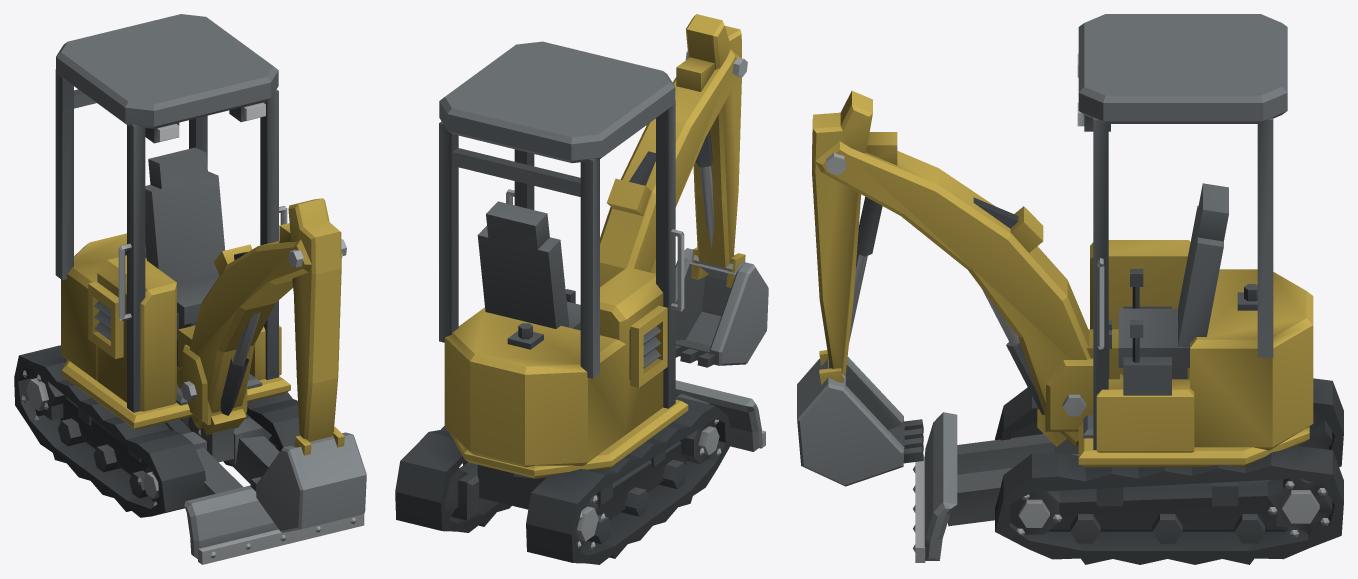
Rendered from digger.glb.
3 views of the same model, side by side, from view 1: azimuth 30°, elevation 25°; view 2: azimuth 150°, elevation 25°; view 3: azimuth 270°, elevation 25° (orthographic). The views are drawn at different scales.
Visible parts, largest first — view 1: digger; view 2: digger; view 3: digger.
Part boxes in pixels (x1,y1,x2,y2): digger: (14,14,366,564); digger: (395,14,768,564); digger: (797,14,1343,564).
Bounding box in the file's own units: 1.21 × 2.76 × 2.95.
